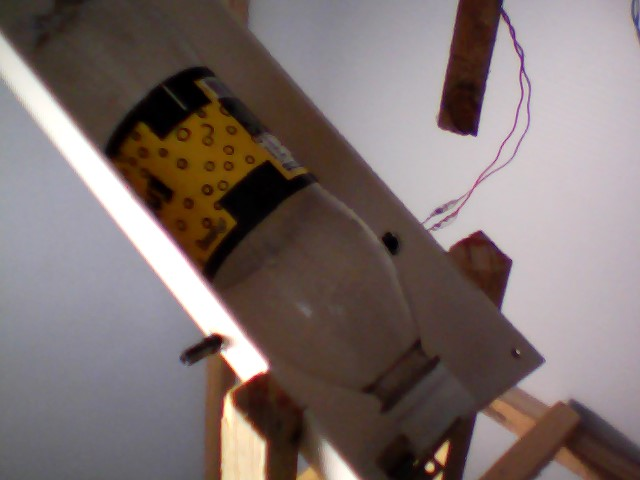plastico: (24, 1, 484, 460)
